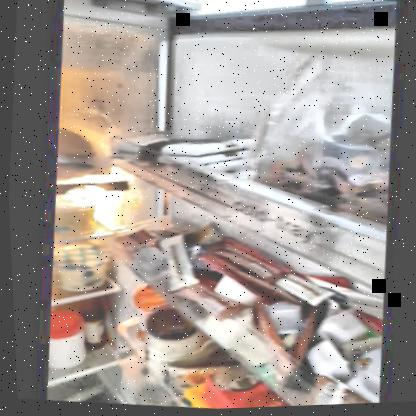butter: (175, 388, 225, 410)
chocolate: (125, 132, 240, 172)
dates: (265, 120, 392, 213)
salami: (55, 129, 99, 171)
yoghurt: (49, 243, 110, 291), (53, 193, 93, 236)
